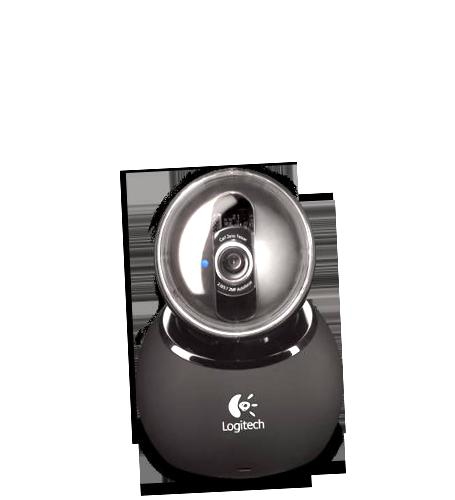webcam: (182, 182, 280, 331)
